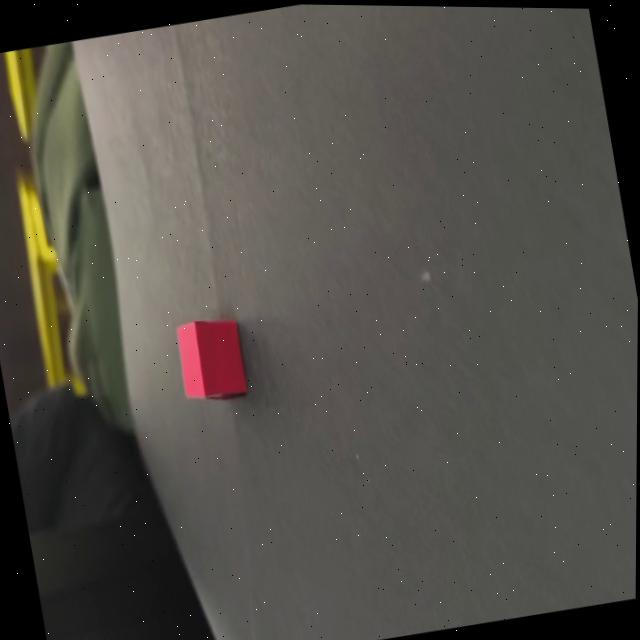red block: (171, 312, 250, 407)
